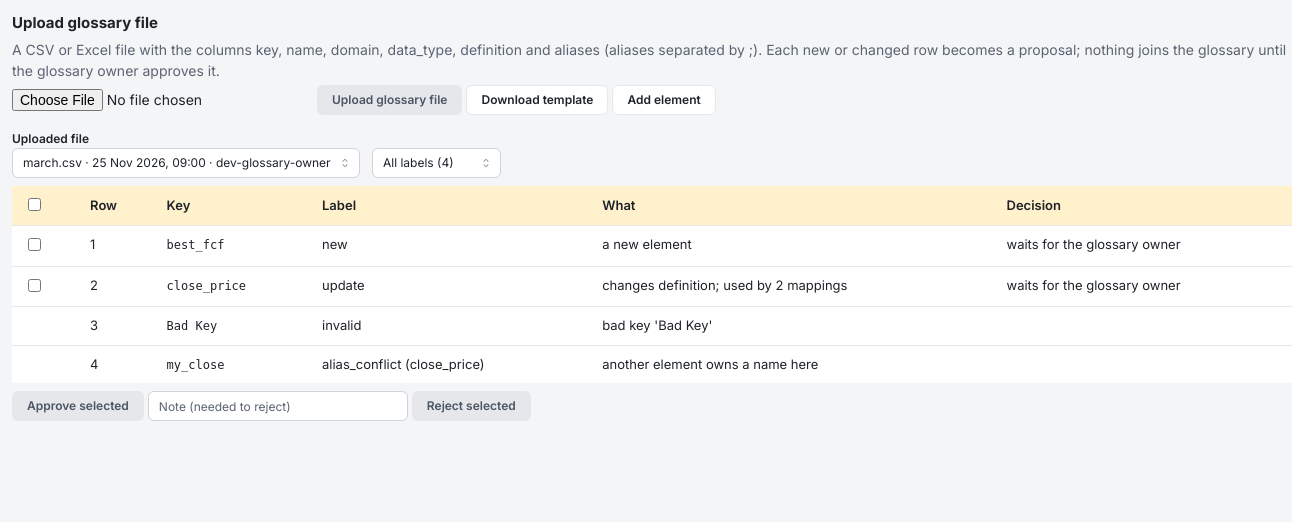
Approve selected sends the ticked pending rows and reports each one
Select "march.csv · 25 Nov 2026, 09:00 · dev-glossary-owner" in the dropdown labelled "Uploaded file": (186, 162) x1=12 y1=148 x2=360 y2=178
Click the checkbox named "Select all pending rows": (34, 204) x1=28 y1=198 x2=41 y2=210
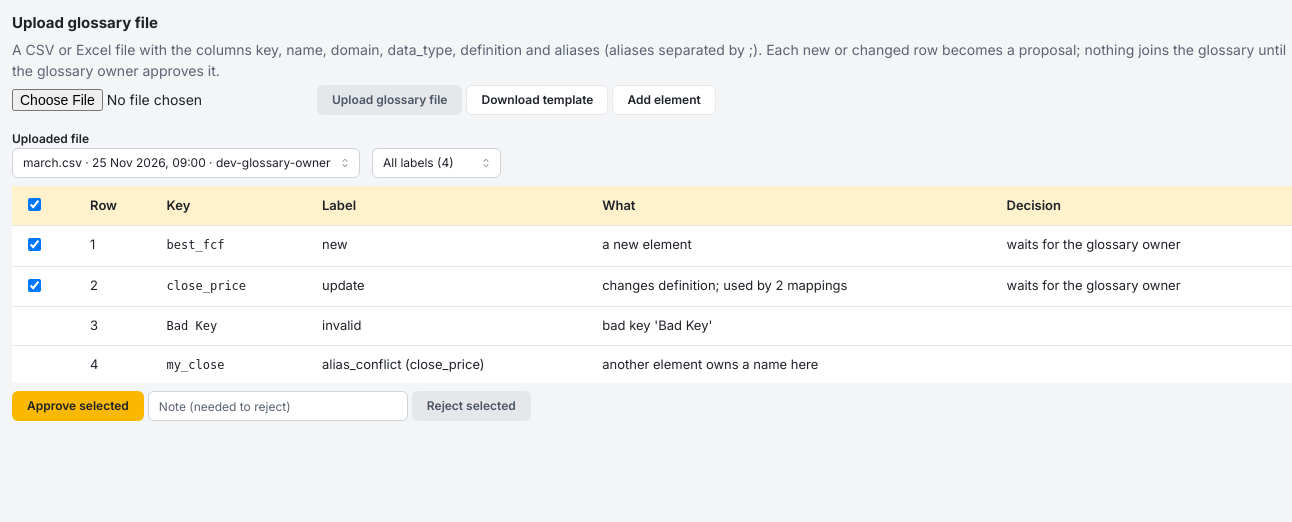
Click the button with test id "approve-selected": (78, 406) x1=12 y1=391 x2=144 y2=421
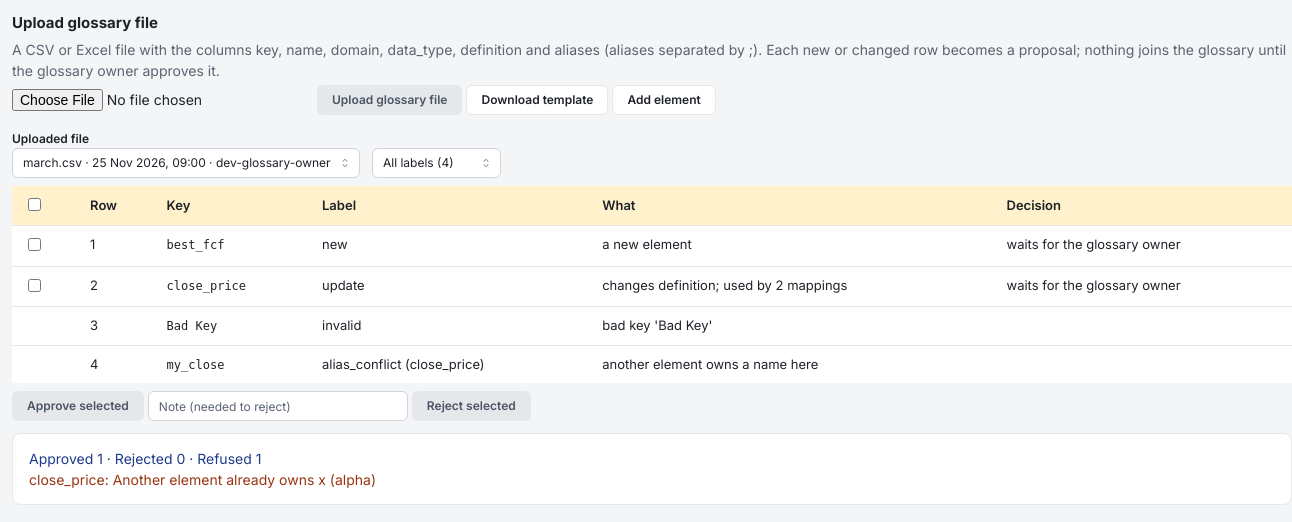
Expected: the message with test id "glossary-import-result" shows "Approved 1", x1=29 y1=450 x2=261 y2=467
Expected: the message with test id "glossary-import-result" shows "Refused 1", x1=29 y1=450 x2=261 y2=467
Expected: the message with test id "glossary-import-result" shows "close_price", x1=29 y1=471 x2=376 y2=488
